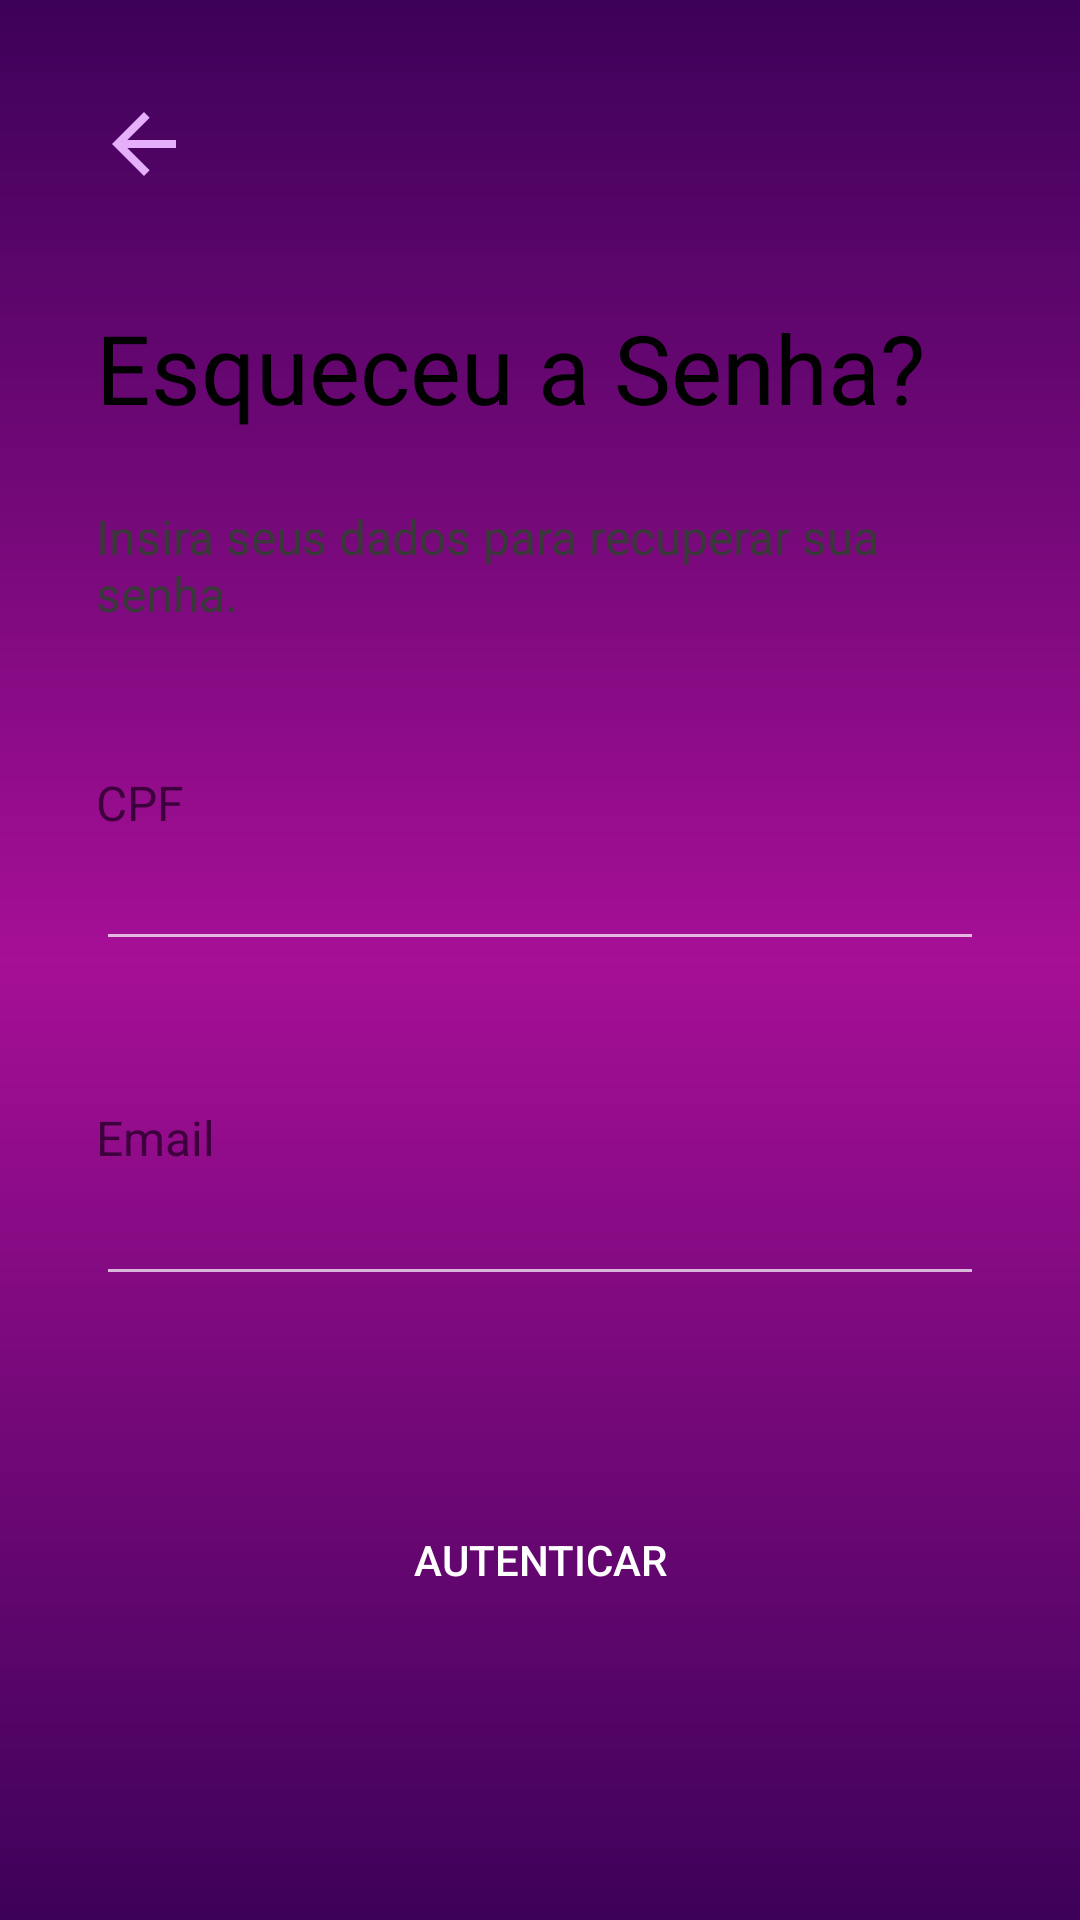

Named icons in this screenshot (1080px×1920px) and their bounding boxes, (x1, y1, x2, y2):
seta voltar: (112, 112, 176, 176)
